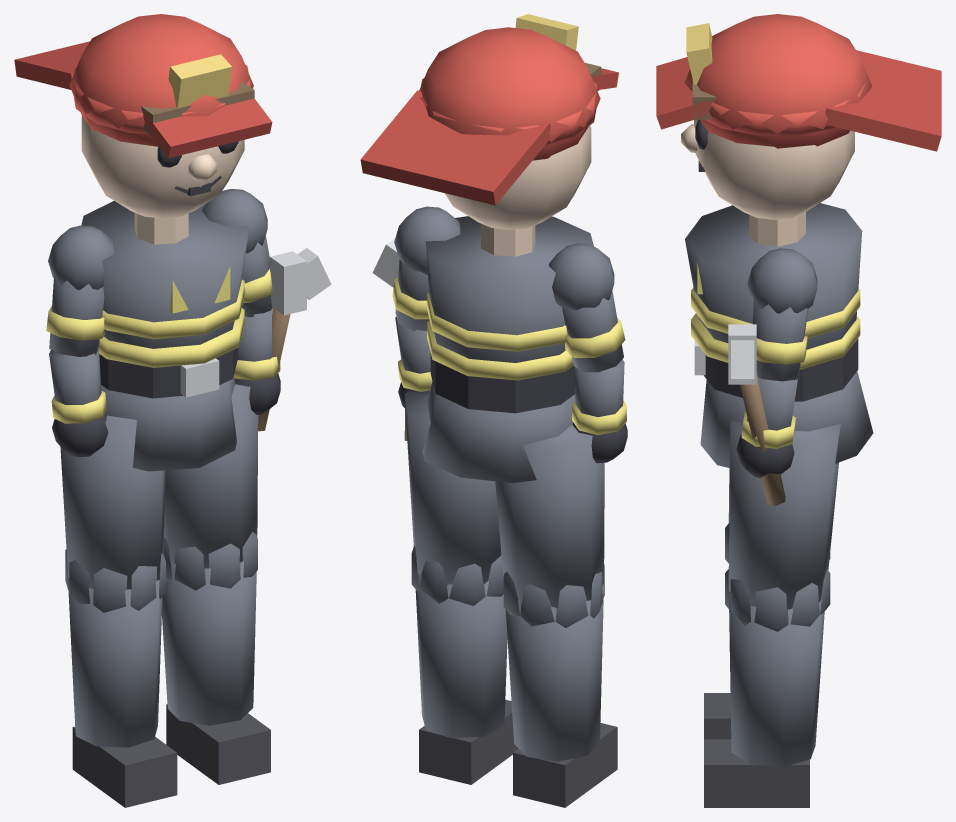
The model's file is meeple_15_feuerwehr_stand.glb.
3 renders of one model, left to right at view 1: azimuth 30°, elevation 25°; view 2: azimuth 150°, elevation 25°; view 3: azimuth 270°, elevation 25°, orthographic.
Visible parts, largest first — view 1: meeple_15_feuerwehr_stand; view 2: meeple_15_feuerwehr_stand; view 3: meeple_15_feuerwehr_stand.
Boxes of the visible parts, box(x1,y1,x2,y2) form: meeple_15_feuerwehr_stand: box(14, 14, 331, 807); meeple_15_feuerwehr_stand: box(360, 14, 627, 807); meeple_15_feuerwehr_stand: box(656, 14, 941, 807).
Bounding box in the file's own units: 0.5846 × 1.6 × 0.5524.
